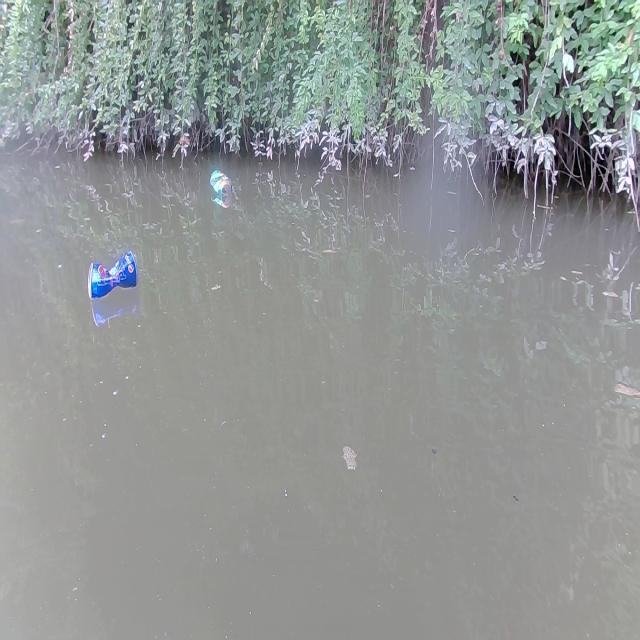bottle: (86, 250, 138, 300), (207, 162, 234, 205)
